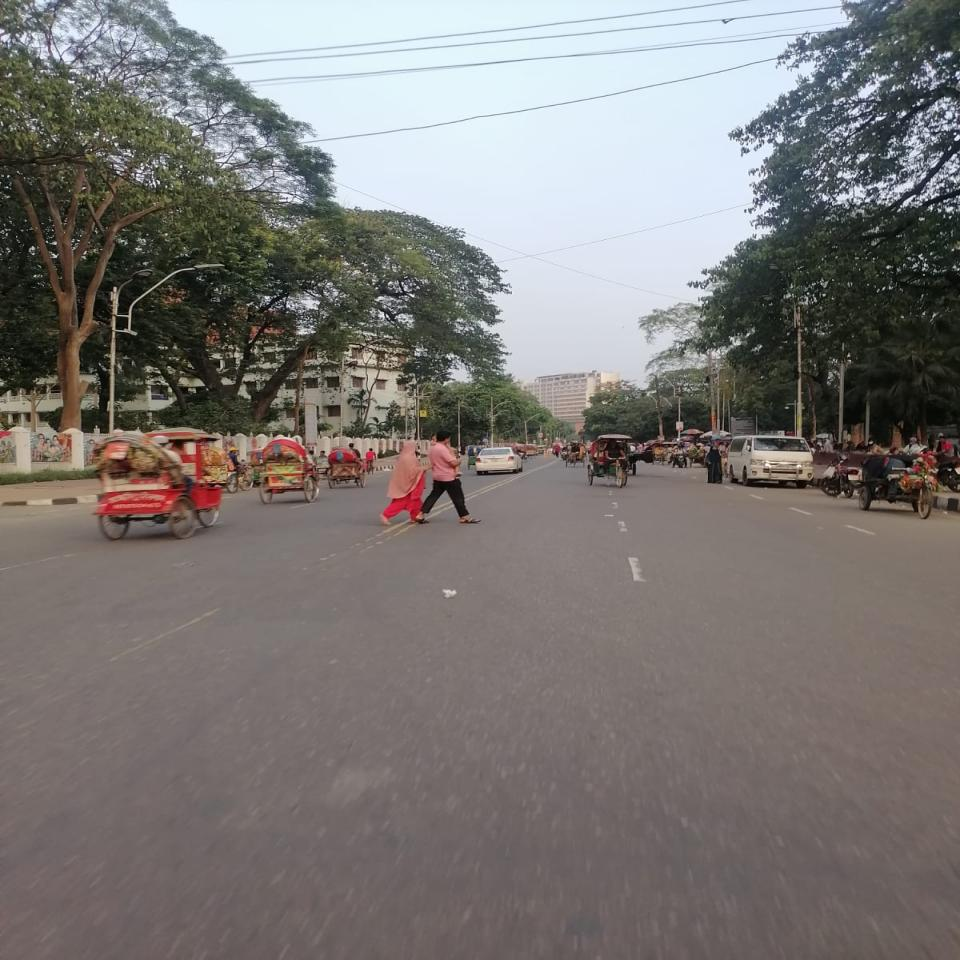person: (416, 431, 481, 525), (380, 440, 429, 526)
